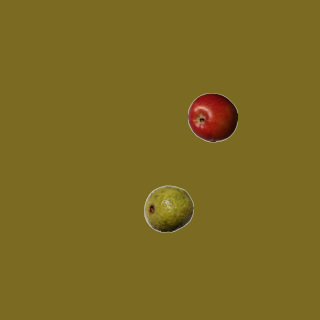Apple Braeburn: (187, 92, 237, 142)
Guava: (143, 183, 193, 233)
